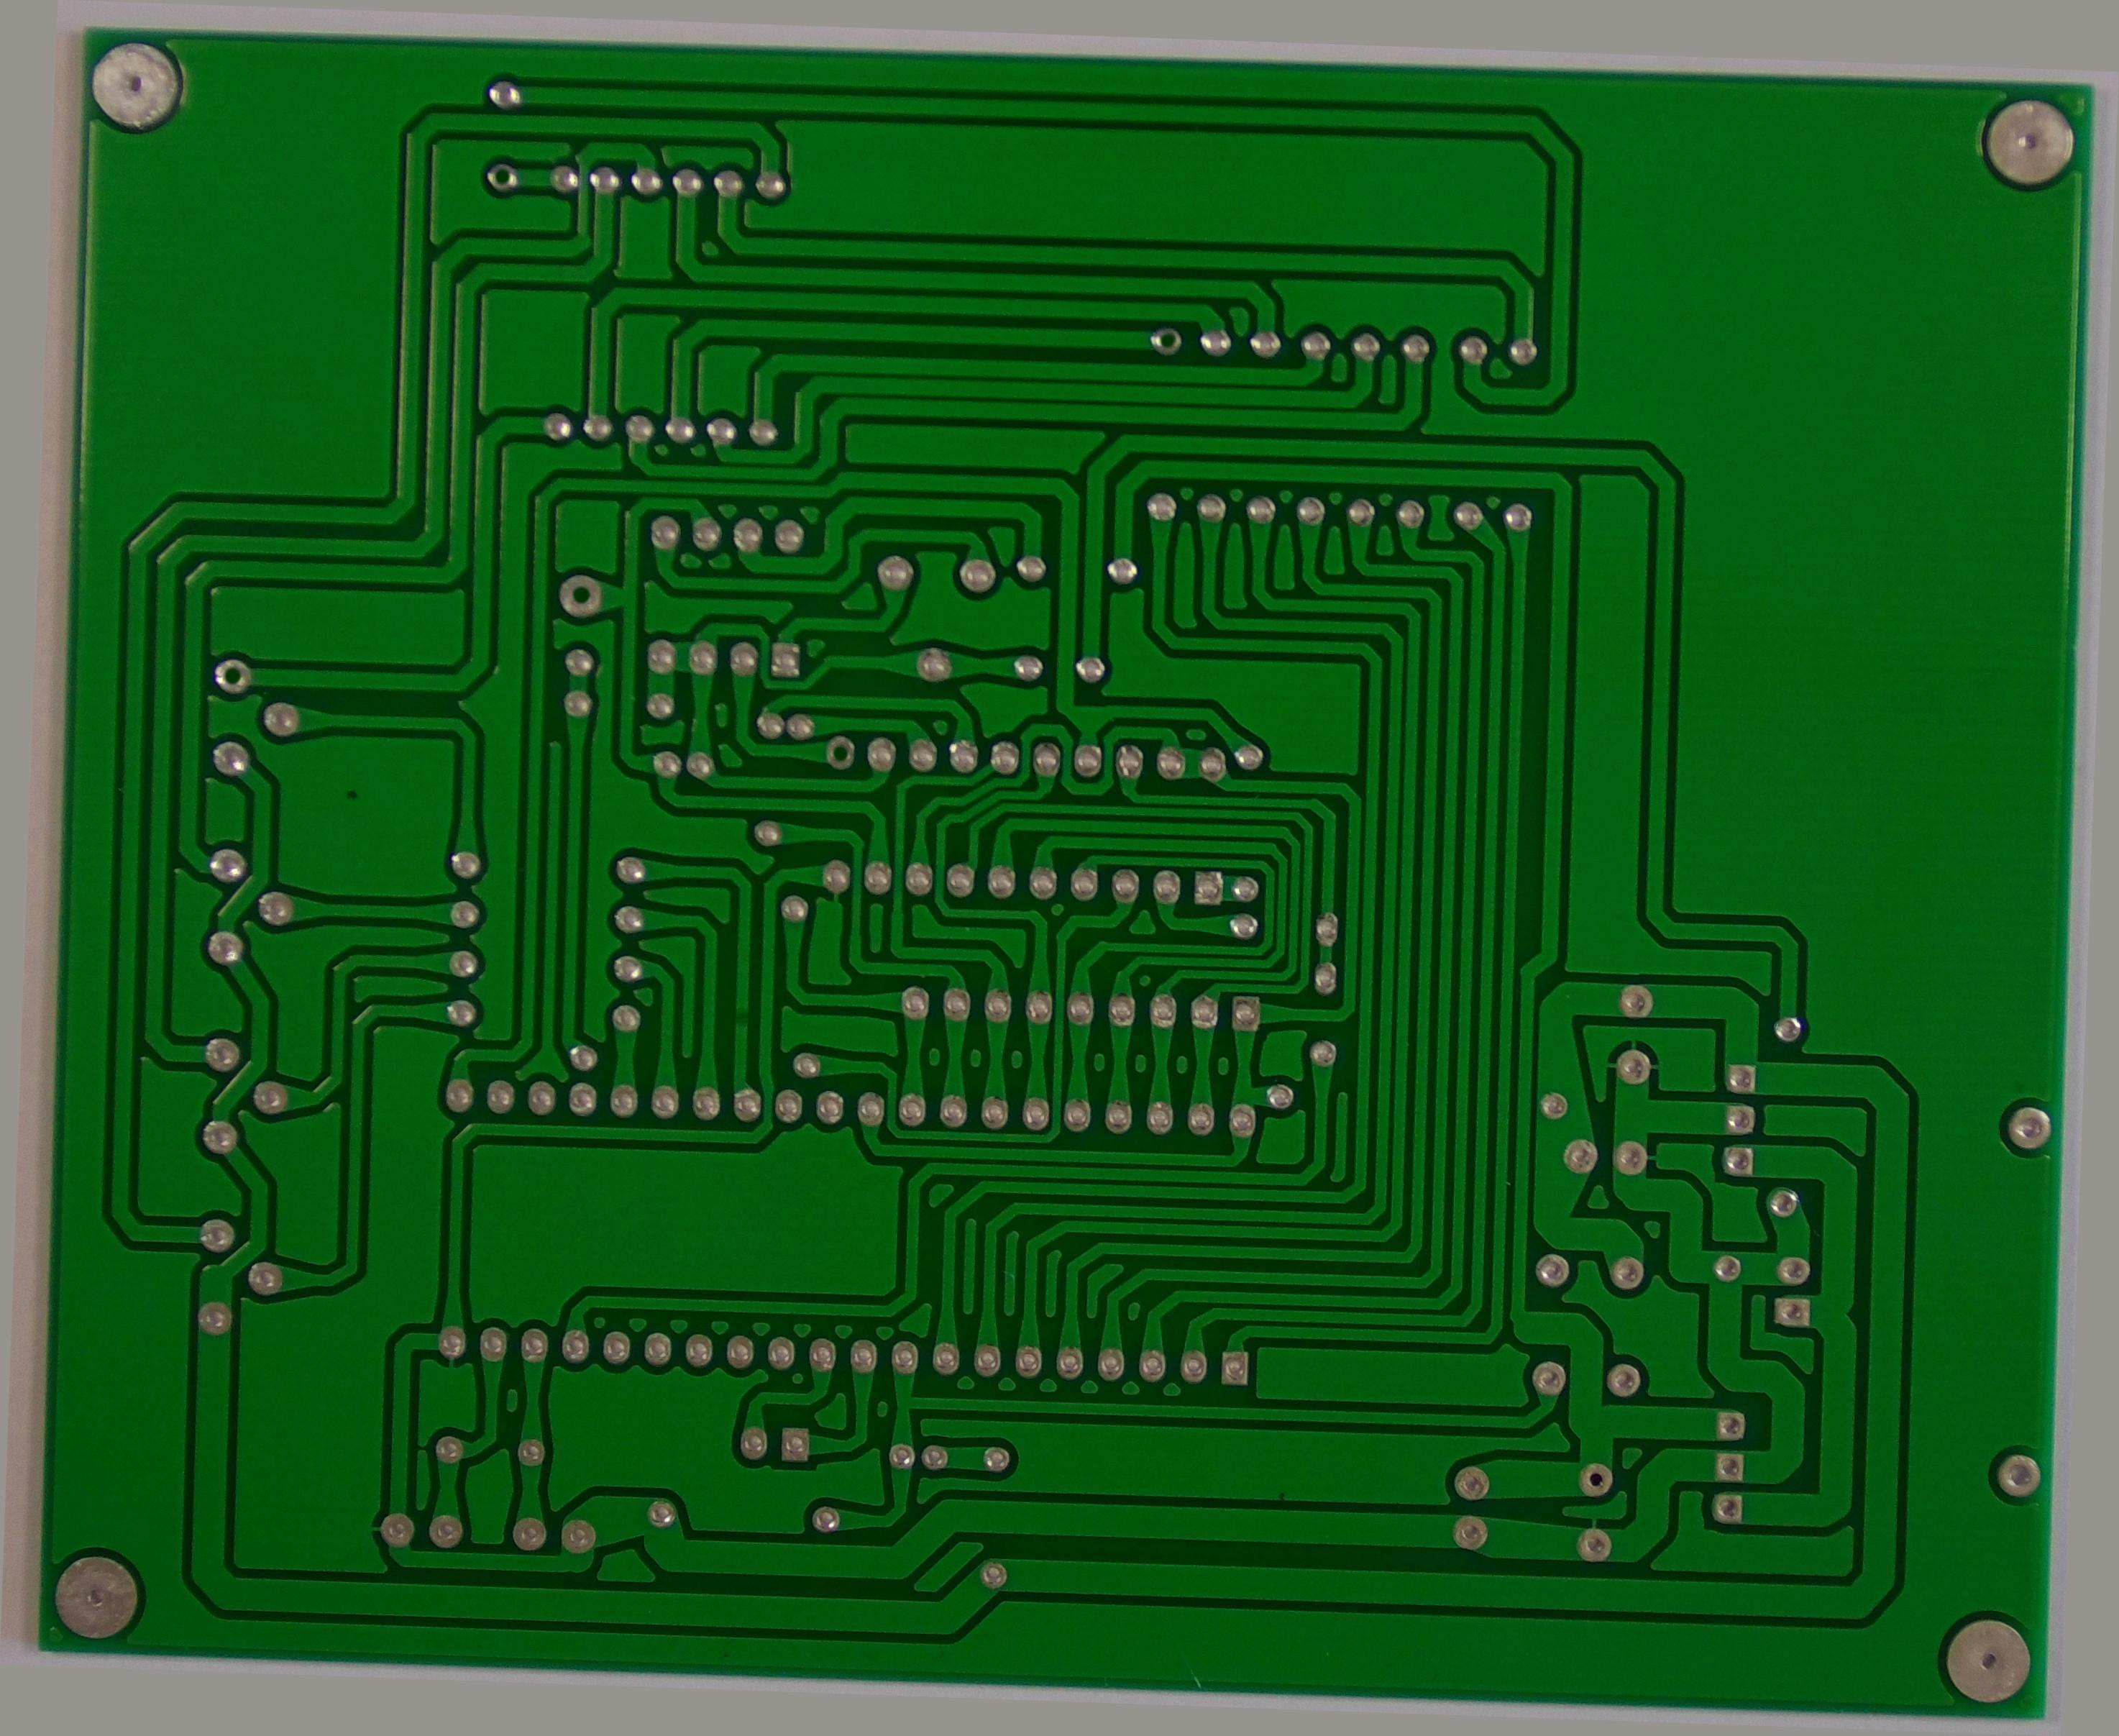missing_hole: (524, 576, 590, 630), (806, 731, 852, 782), (178, 671, 225, 718), (1128, 296, 1172, 333), (445, 151, 480, 185)
